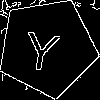Y: (22, 22, 62, 73)
